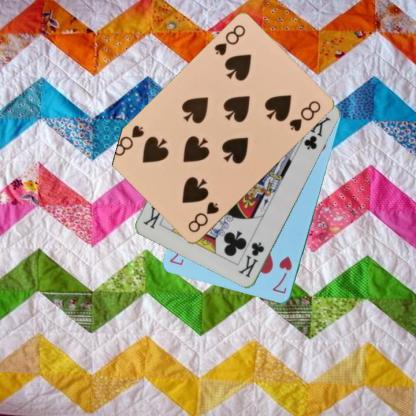7h: (270, 254, 293, 295)
8s: (186, 199, 220, 234), (212, 23, 247, 57)
Kc: (236, 240, 266, 279)
